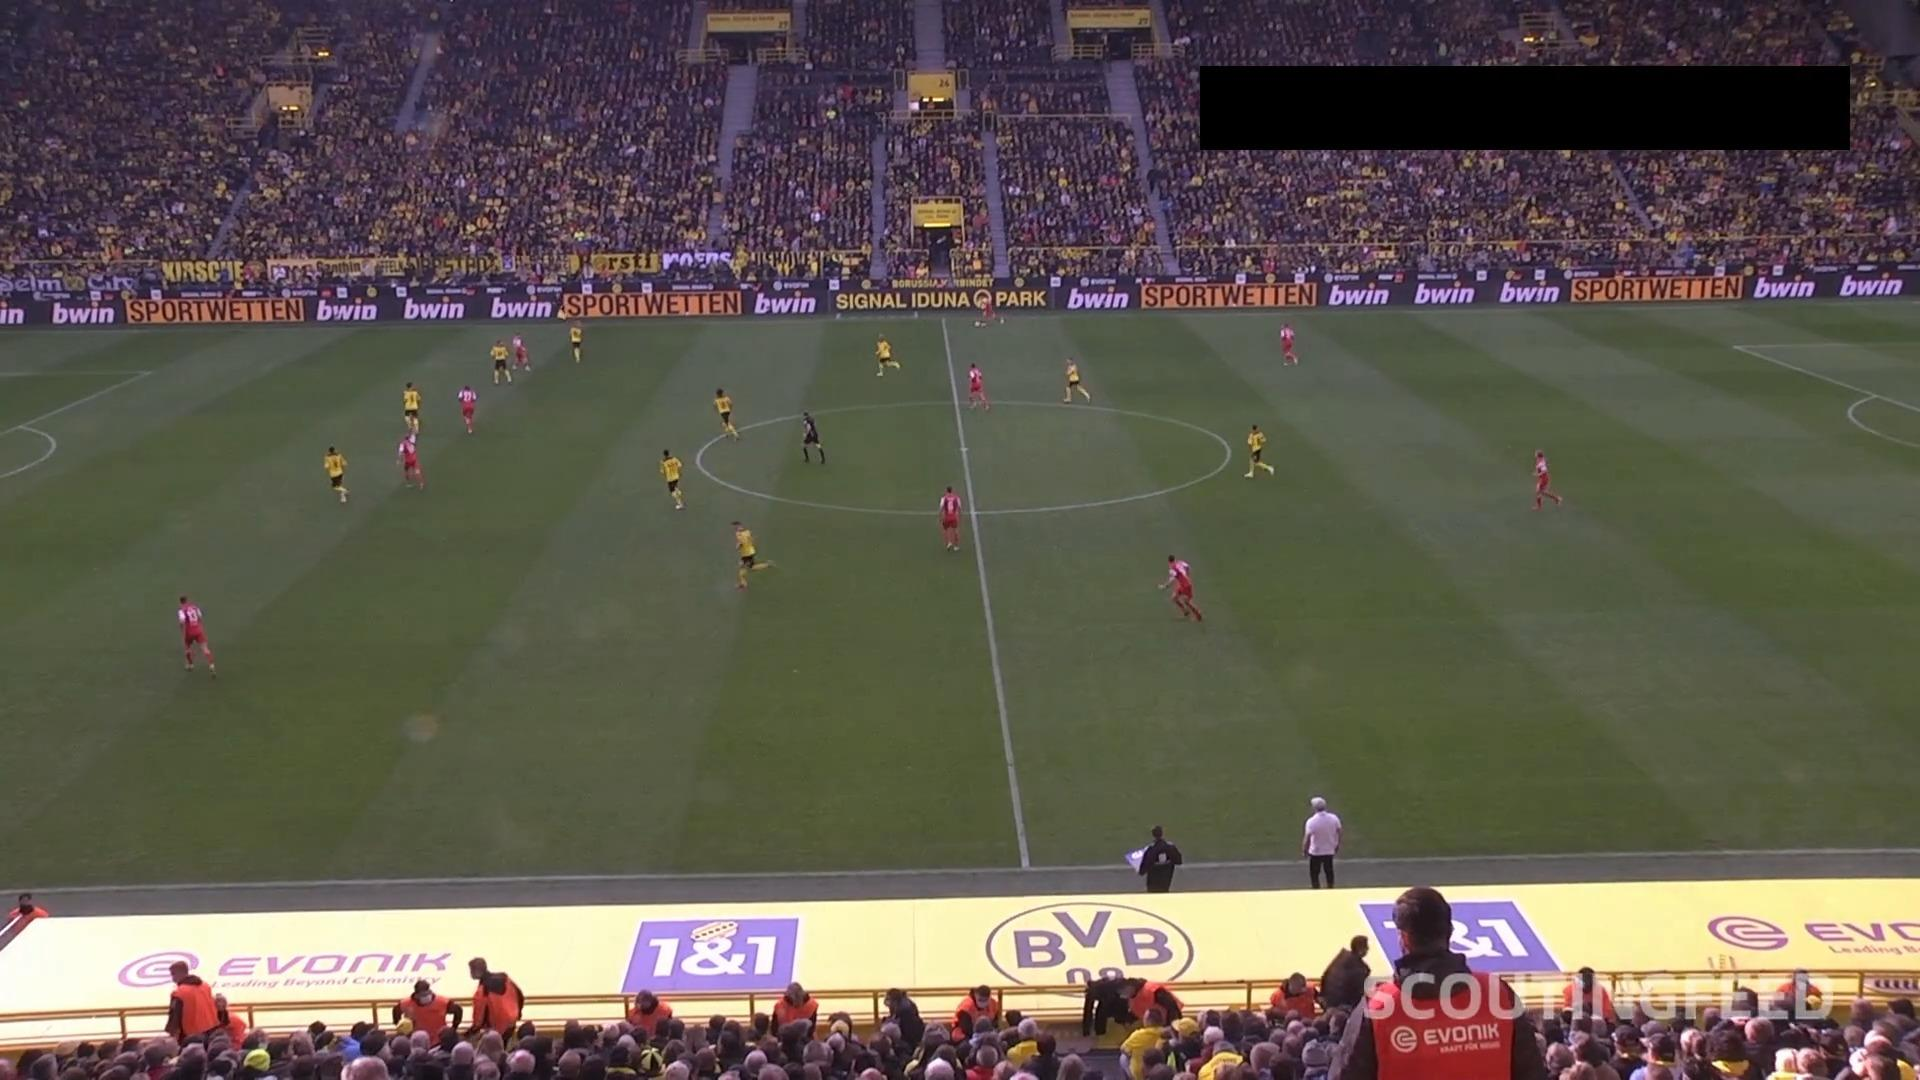ball: (973, 319, 981, 328)
